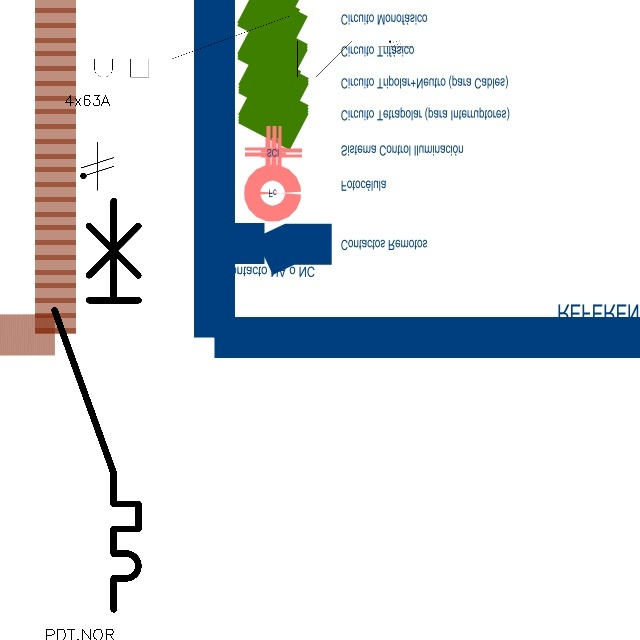interruptor_termomagnetico: (44, 190, 149, 619), (64, 8, 377, 85)
